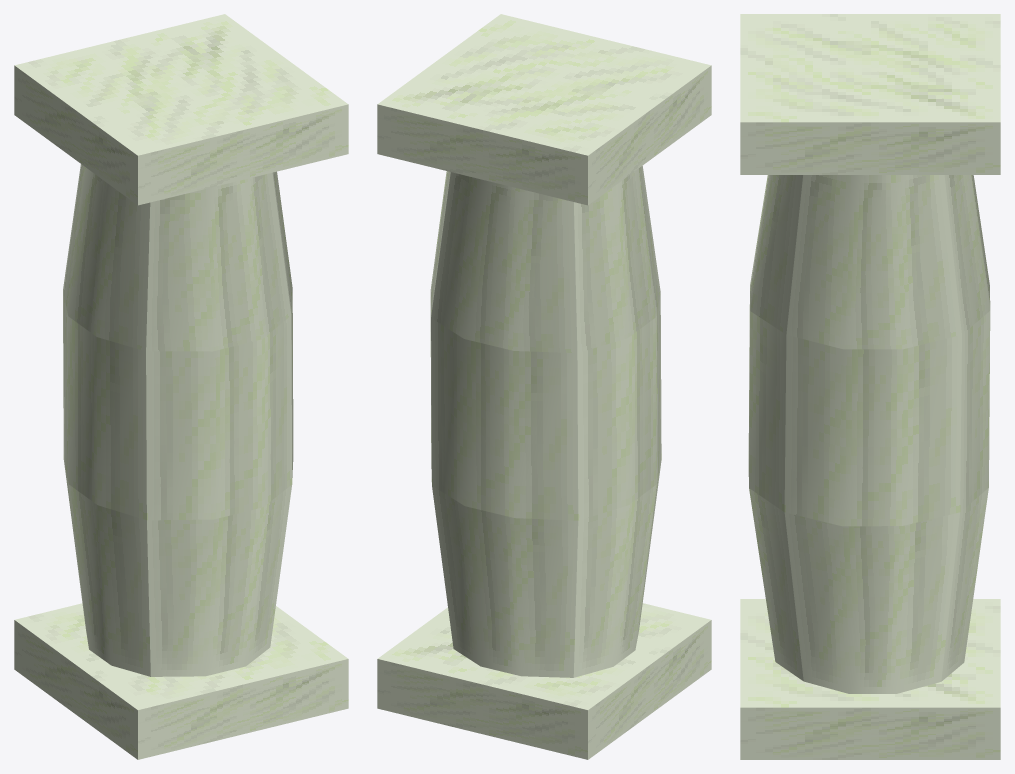
The model's file is marble02.obj.
3 views of the same model, side by side, from view 1: azimuth 30°, elevation 25°; view 2: azimuth 150°, elevation 25°; view 3: azimuth 270°, elevation 25° (orthographic). The views are drawn at different scales.
Parts seen in each view (by area): view 1: Duplicate07, Duplicate05, Duplicate06, Box02, Box01, Duplicate02; view 2: Duplicate07, Duplicate05, Duplicate06, Box02, Duplicate01, Duplicate02; view 3: Duplicate05, Duplicate07, Duplicate06, Duplicate03, Box02, Box01, Duplicate01.
Boxes of the visible parts, left/top/right/bottom form: Duplicate07: left=14, top=14, right=348, bottom=205; Duplicate05: left=63, top=292, right=293, bottom=520; Duplicate06: left=63, top=164, right=292, bottom=351; Box02: left=14, top=603, right=348, bottom=759; Box01: left=147, top=484, right=292, bottom=676; Duplicate02: left=64, top=461, right=150, bottom=676; Duplicate07: left=377, top=14, right=711, bottom=205; Duplicate05: left=430, top=293, right=661, bottom=520; Duplicate06: left=430, top=166, right=660, bottom=352; Box02: left=377, top=603, right=711, bottom=759; Duplicate01: left=432, top=486, right=578, bottom=677; Duplicate02: left=573, top=462, right=661, bottom=677; Duplicate05: left=748, top=298, right=990, bottom=526; Duplicate07: left=740, top=14, right=1000, bottom=174; Duplicate06: left=750, top=175, right=990, bottom=349; Duplicate03: left=784, top=512, right=959, bottom=693; Box02: left=740, top=599, right=1000, bottom=759; Box01: left=749, top=488, right=803, bottom=680; Duplicate01: left=941, top=488, right=988, bottom=681.
Bounding box in the file's own units: 29.92 × 82 × 30.38.
